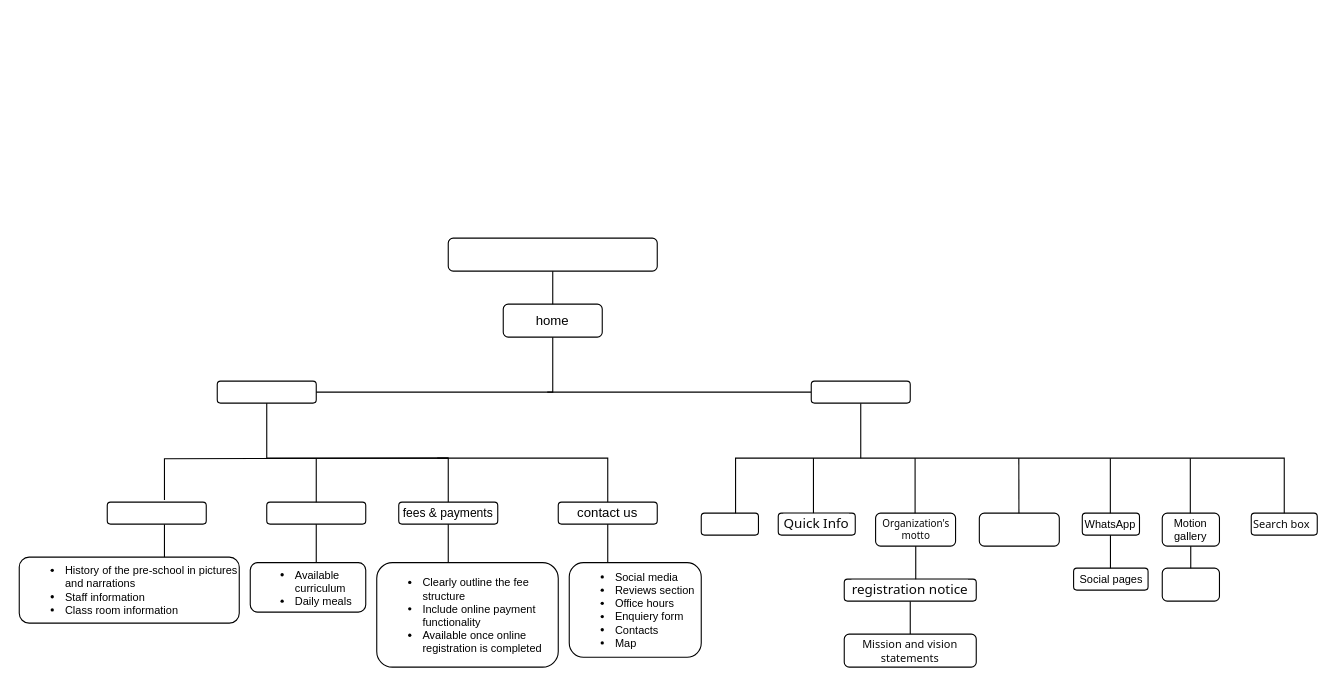
Image size: 1337x686. Some labels were removed from this diagram. Each missing label, with the centre of its shape:
"About" goes at (x=156, y=512).
"Activity video" goes at (x=1190, y=584).
"https://manantoacademy.co.za/" goes at (x=552, y=254).
"Links to apply online" goes at (x=1018, y=529).
"logo" goes at (x=729, y=523).
"navigation-menu" goes at (x=266, y=391).
"root-page" goes at (x=860, y=391).
"services" goes at (x=316, y=512).
